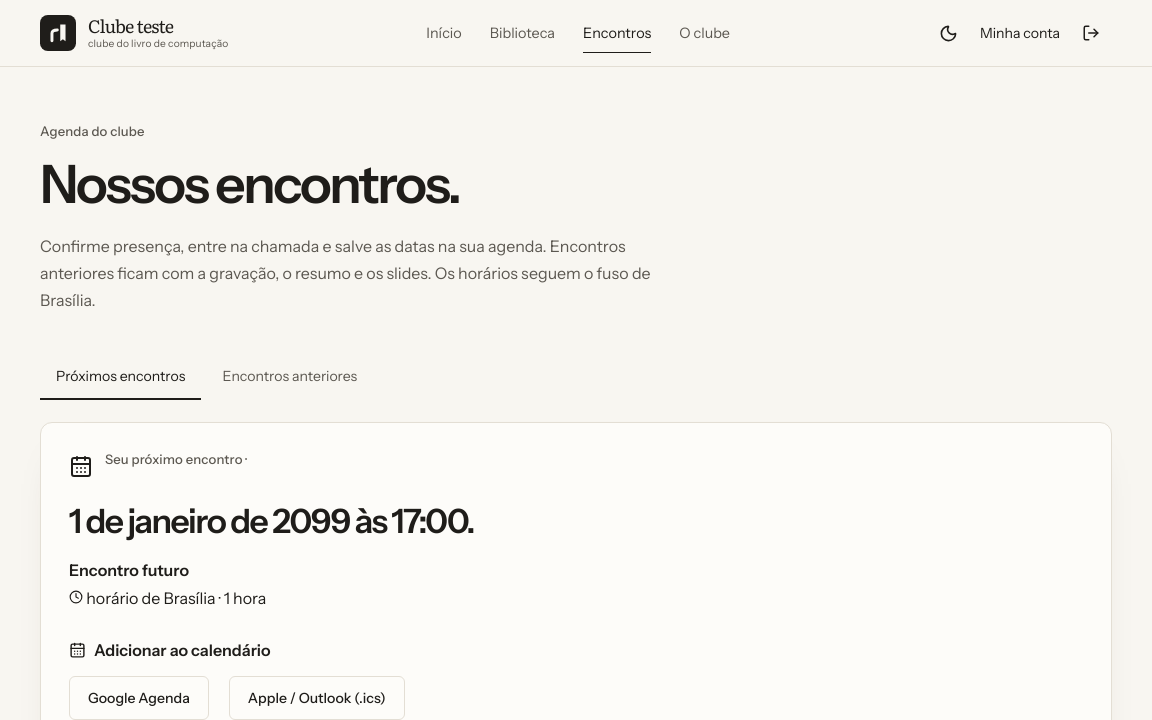
Test: a scheduled meeting whose time has passed appears in previous meetings
The width and height of the screenshot is (1152, 720).
Check: the text "Encontro futuro" is shown, box [69,560,189,580]
Check: the text "Encontro antigo" is not shown
What coordinates should you click on to do the following:
click the button "Encontros anteriores"
I would click on:
 (290, 378)
Its box is [206,354,373,400].
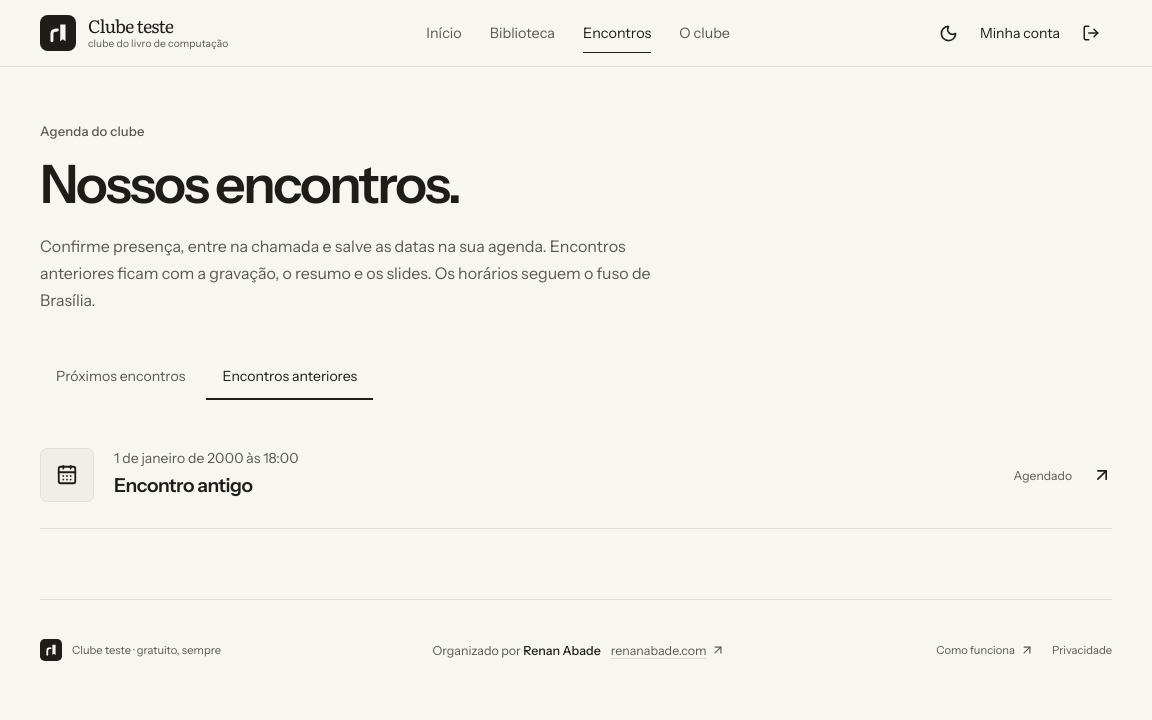
Check: the heading "Encontro antigo" is shown, box [114,474,252,498]
